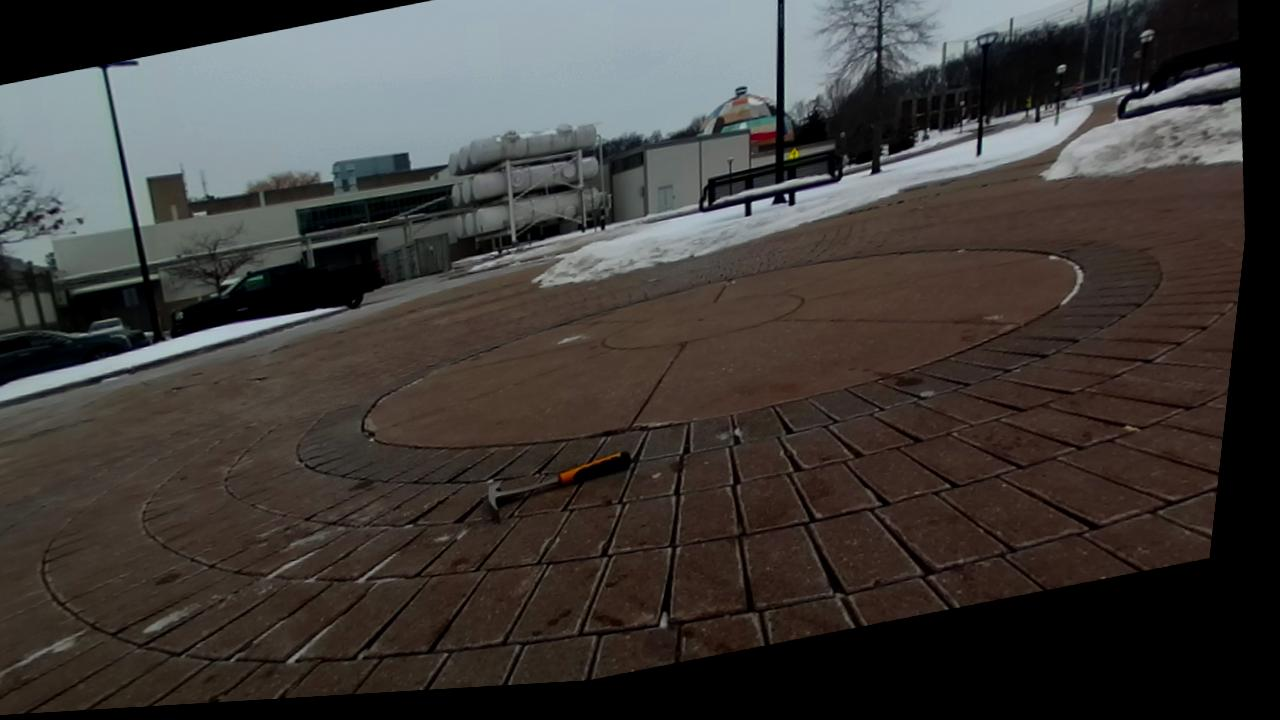pick: (485, 451, 630, 519)
